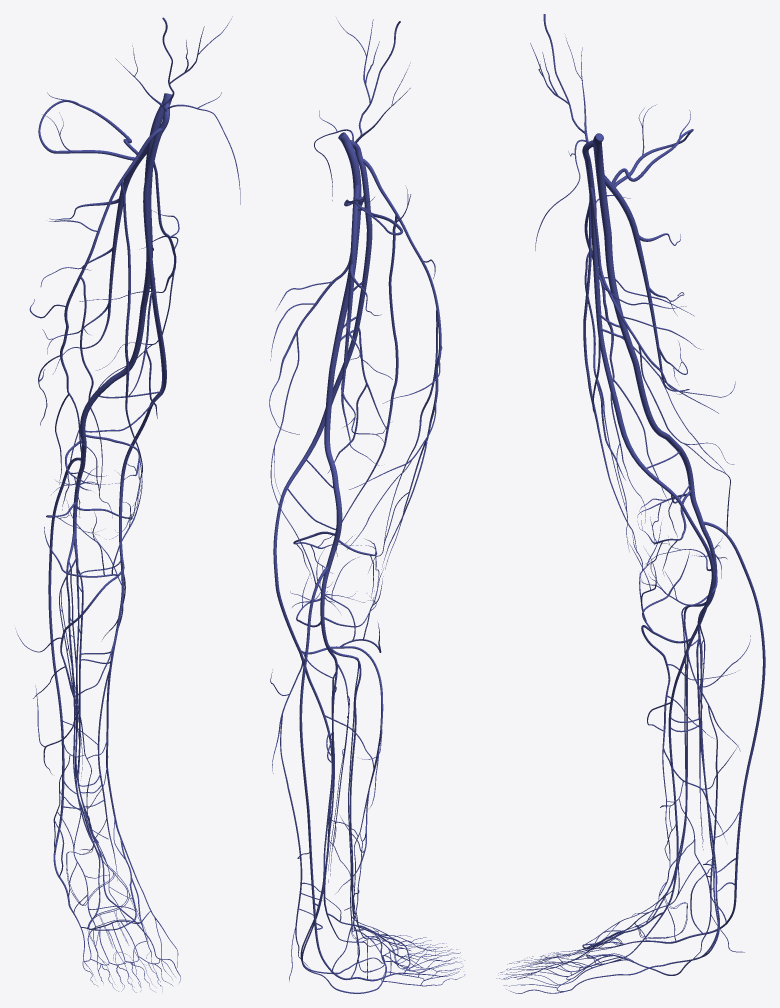
Rendered from aligned-lower-limb-venous-01.glb.
3 views of the same model, side by side, from view 1: azimuth 30°, elevation 25°; view 2: azimuth 150°, elevation 25°; view 3: azimuth 270°, elevation 25° (orthographic). The views are drawn at different scales.
Parts seen in each view (by area): view 1: O3D_3e1cac1ee0de8a, O3D_04040edce82906, O3D_e8c093a1bc3fad, O3D_6ef2aee11aeb44, O3D_9254e4d5e7d4b2, O3D_de18a0ae5acee7, O3D_f260d2a7bbb266, O3D_d938ff65dfdf9b, O3D_61b3cabfc73e17, O3D_b165f14a4c4a98, O3D_8cdb44dfc76a70, O3D_4c0189086de769 (+2 smaller); view 2: O3D_3e1cac1ee0de8a, O3D_04040edce82906, O3D_e8c093a1bc3fad, O3D_6ef2aee11aeb44, O3D_9254e4d5e7d4b2, O3D_d938ff65dfdf9b, O3D_de18a0ae5acee7, O3D_f260d2a7bbb266, O3D_61b3cabfc73e17, O3D_b165f14a4c4a98, O3D_8cdb44dfc76a70, O3D_4c0189086de769 (+2 smaller); view 3: O3D_04040edce82906, O3D_3e1cac1ee0de8a, O3D_e8c093a1bc3fad, O3D_6ef2aee11aeb44, O3D_d938ff65dfdf9b, O3D_9254e4d5e7d4b2, O3D_de18a0ae5acee7, O3D_61b3cabfc73e17, O3D_f260d2a7bbb266, O3D_8cdb44dfc76a70, O3D_b165f14a4c4a98.
Boxes of the visible parts, x1,y1,x2,y2 form: O3D_3e1cac1ee0de8a: (29, 128, 162, 517); O3D_04040edce82906: (106, 103, 169, 834); O3D_e8c093a1bc3fad: (15, 290, 157, 877); O3D_6ef2aee11aeb44: (108, 93, 171, 383); O3D_9254e4d5e7d4b2: (48, 457, 80, 851); O3D_de18a0ae5acee7: (61, 531, 103, 870); O3D_f260d2a7bbb266: (66, 531, 94, 841); O3D_d938ff65dfdf9b: (70, 161, 179, 461); O3D_61b3cabfc73e17: (102, 144, 148, 336); O3D_b165f14a4c4a98: (73, 380, 111, 531); O3D_8cdb44dfc76a70: (91, 528, 125, 880); O3D_4c0189086de769: (40, 198, 118, 374); O3D_3e1cac1ee0de8a: (336, 158, 442, 572); O3D_04040edce82906: (273, 140, 372, 911); O3D_e8c093a1bc3fad: (289, 328, 386, 981); O3D_6ef2aee11aeb44: (324, 132, 361, 466); O3D_9254e4d5e7d4b2: (299, 566, 332, 971); O3D_d938ff65dfdf9b: (269, 196, 364, 587); O3D_de18a0ae5acee7: (300, 645, 337, 972); O3D_f260d2a7bbb266: (328, 644, 361, 917); O3D_61b3cabfc73e17: (341, 185, 360, 418); O3D_b165f14a4c4a98: (320, 465, 342, 645); O3D_8cdb44dfc76a70: (270, 662, 310, 969); O3D_4c0189086de769: (341, 264, 392, 465); O3D_04040edce82906: (582, 140, 715, 908); O3D_3e1cac1ee0de8a: (583, 195, 725, 552); O3D_e8c093a1bc3fad: (592, 339, 744, 952); O3D_6ef2aee11aeb44: (593, 133, 671, 440); O3D_d938ff65dfdf9b: (590, 187, 735, 533); O3D_9254e4d5e7d4b2: (703, 521, 765, 923); O3D_de18a0ae5acee7: (696, 597, 735, 957); O3D_61b3cabfc73e17: (604, 175, 664, 382); O3D_f260d2a7bbb266: (665, 602, 705, 895); O3D_8cdb44dfc76a70: (684, 635, 750, 967); O3D_b165f14a4c4a98: (667, 437, 717, 597).
Bounding box in the file's own units: 0.162 × 0.9569 × 0.2394.
